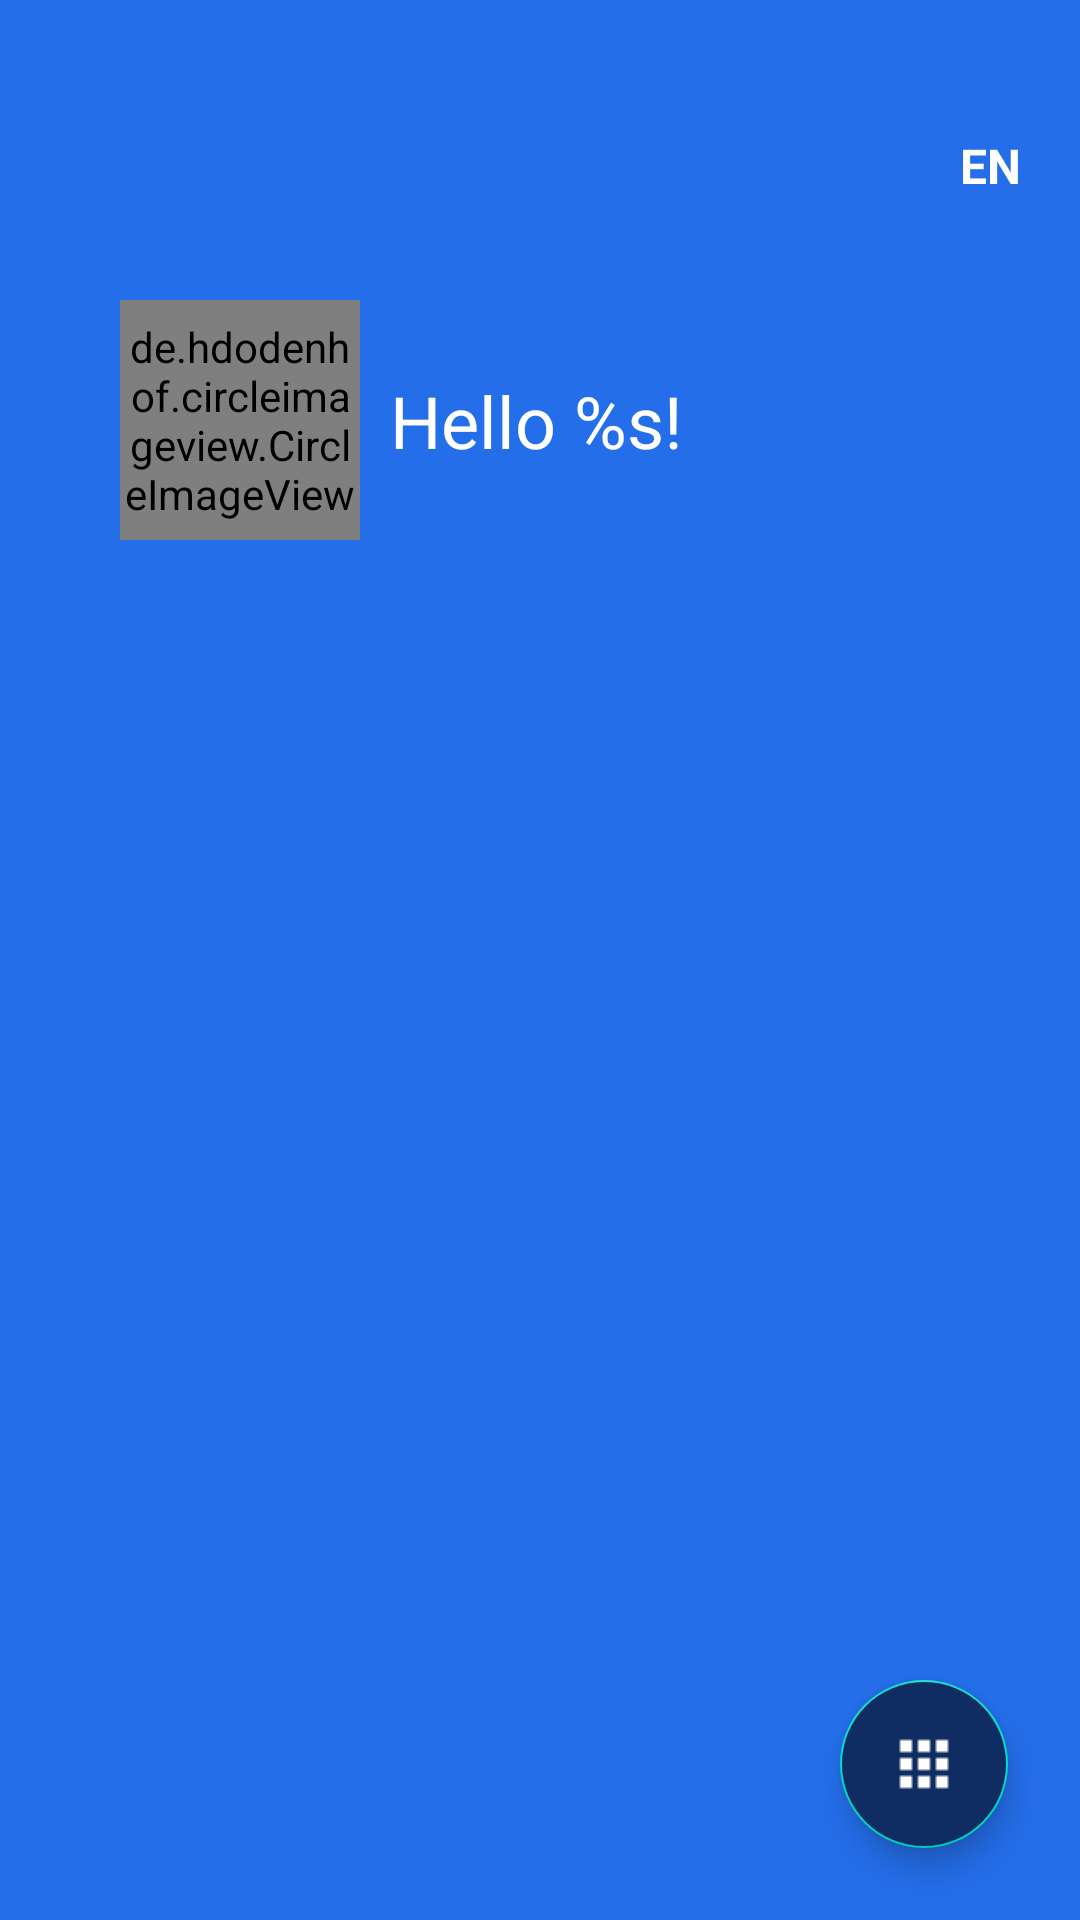

Icon bounding boxes for this 1080x1920 phone screenshot, format (x1, y1, x2, y2):
actions: (840, 1680, 1008, 1848)
